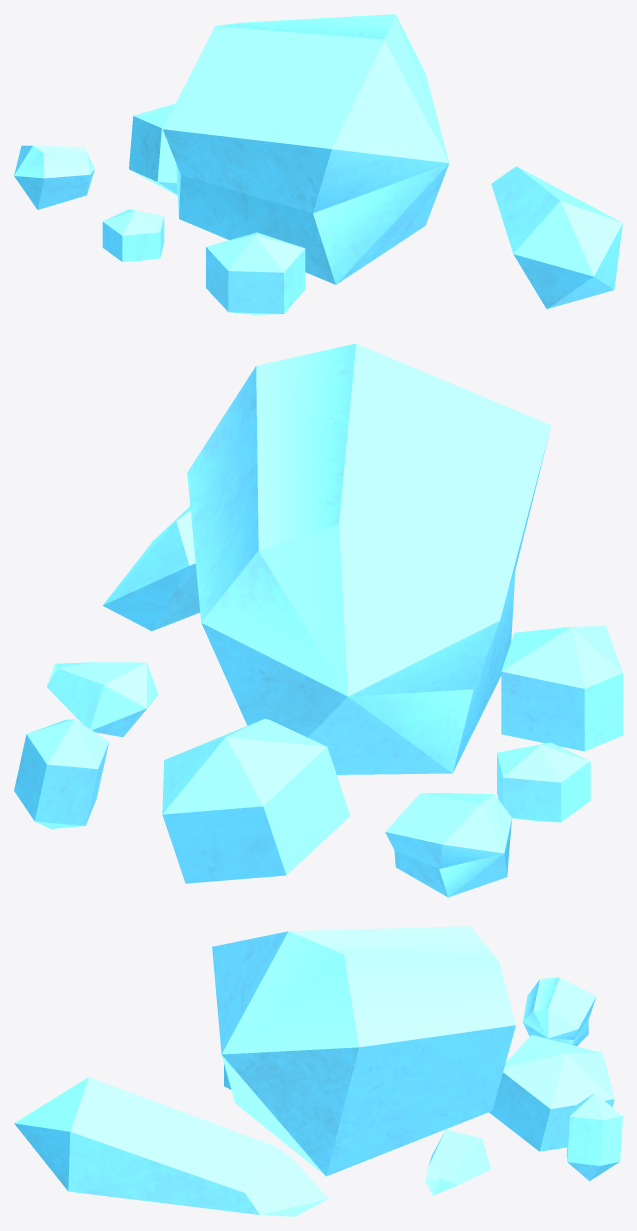
Rendered from Crystal_pile_001.fbx.
3 renders of one model, top to bottom at view 1: azimuth 30°, elevation 25°; view 2: azimuth 150°, elevation 25°; view 3: azimuth 270°, elevation 25°, orthographic. The views are drawn at different scales.
Visible parts, largest first — view 1: Crystal_pile; view 2: Crystal_pile; view 3: Crystal_pile.
Part boxes in pixels (bbox=[...]): Crystal_pile: bbox=[14, 14, 622, 314]; Crystal_pile: bbox=[14, 343, 622, 897]; Crystal_pile: bbox=[14, 926, 622, 1216].
Size of the model in its own units: 57.14 by 33.32 by 76.82.
